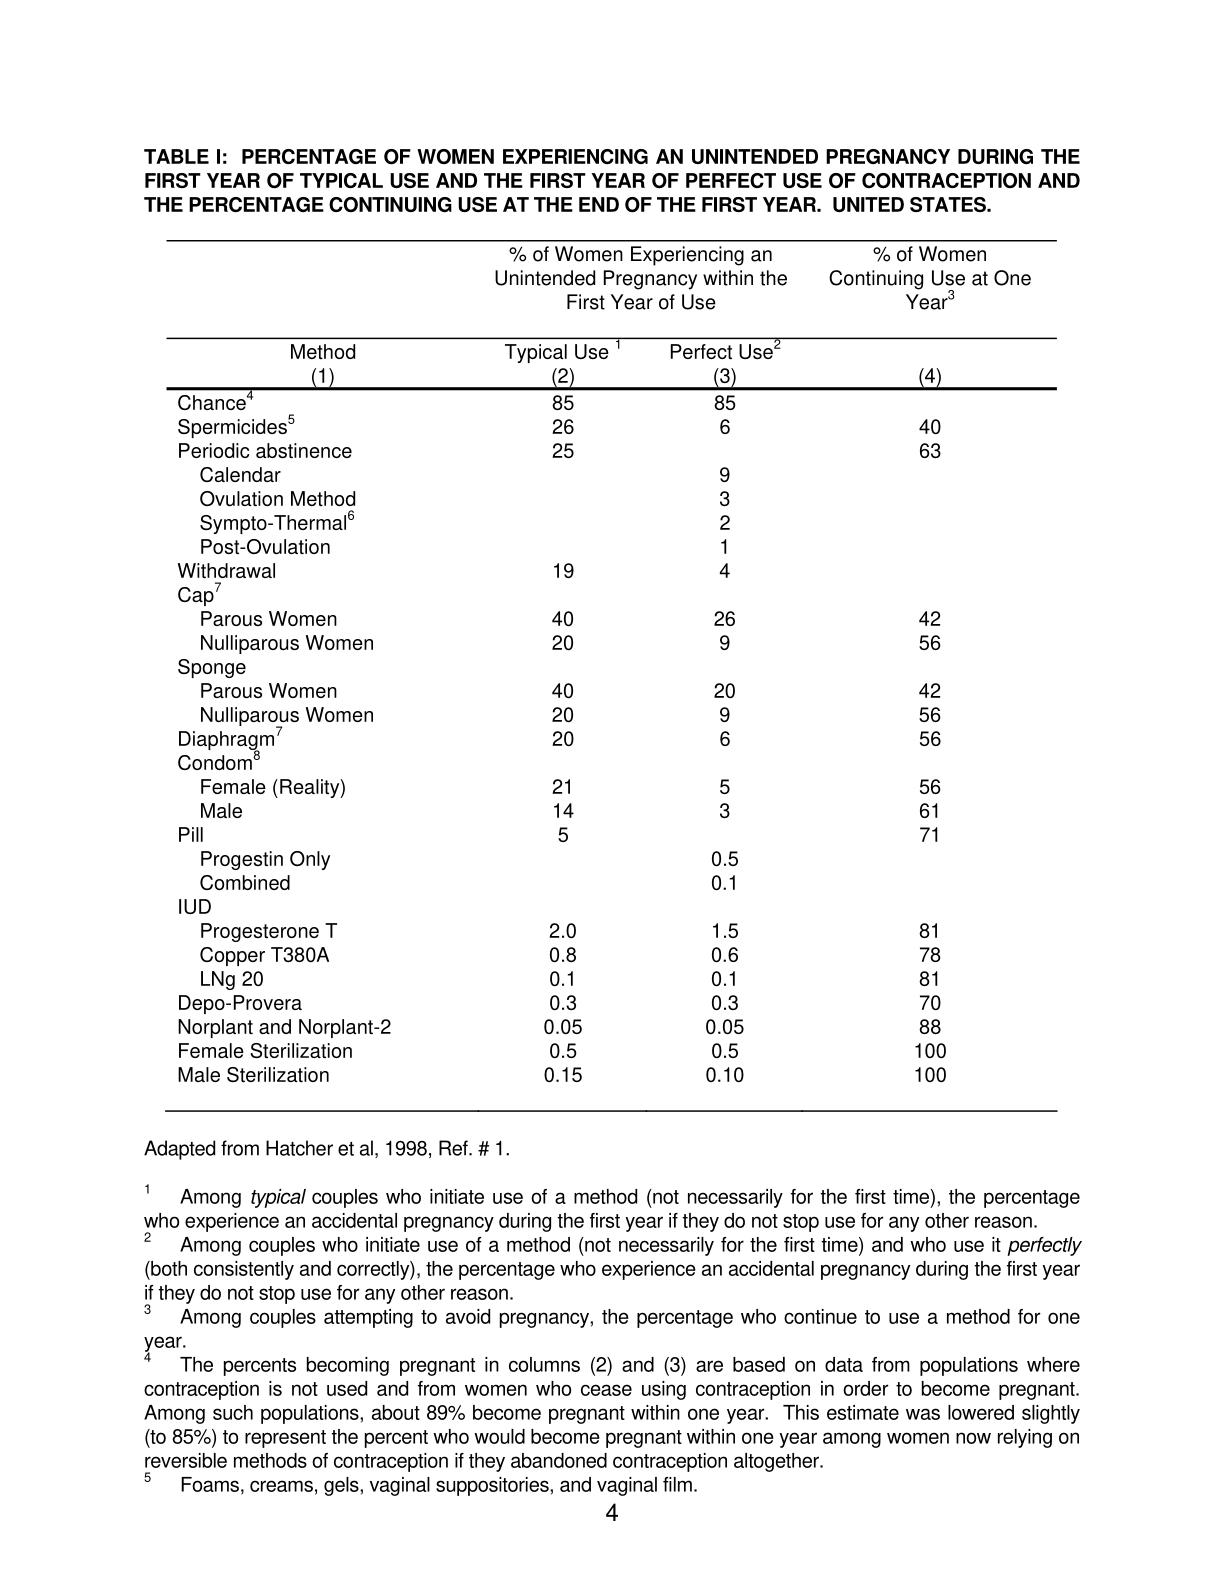partial_lined_merged_cells: (165, 237, 1061, 1113)
